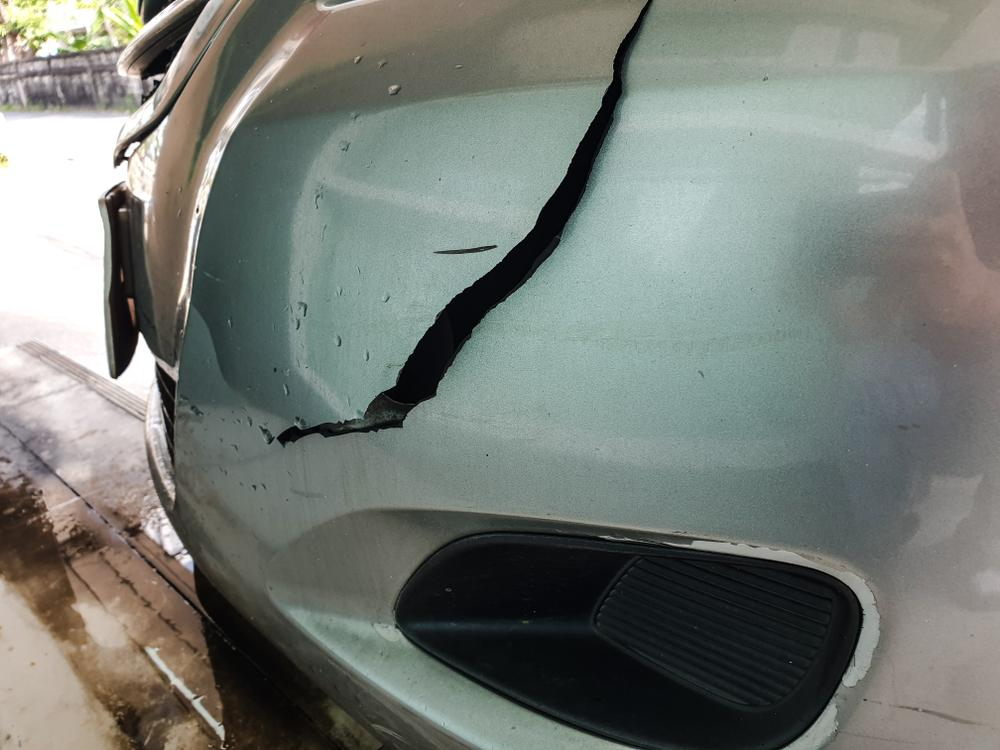crack: (274, 0, 659, 448)
